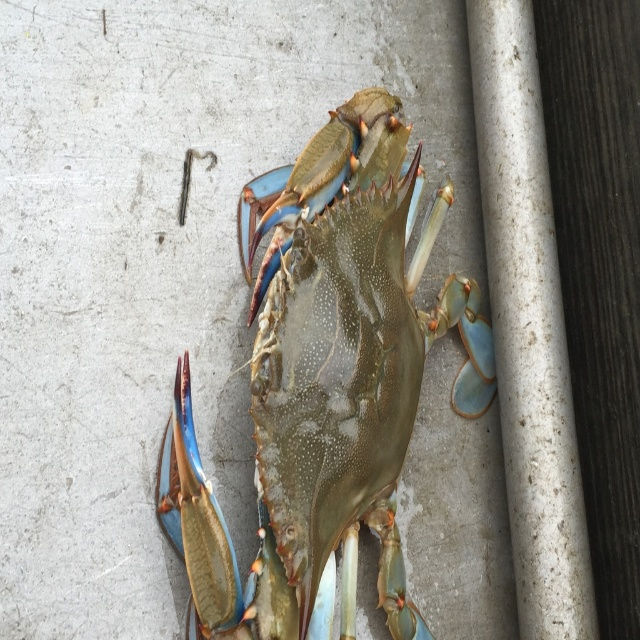Crab: (150, 81, 500, 639)
